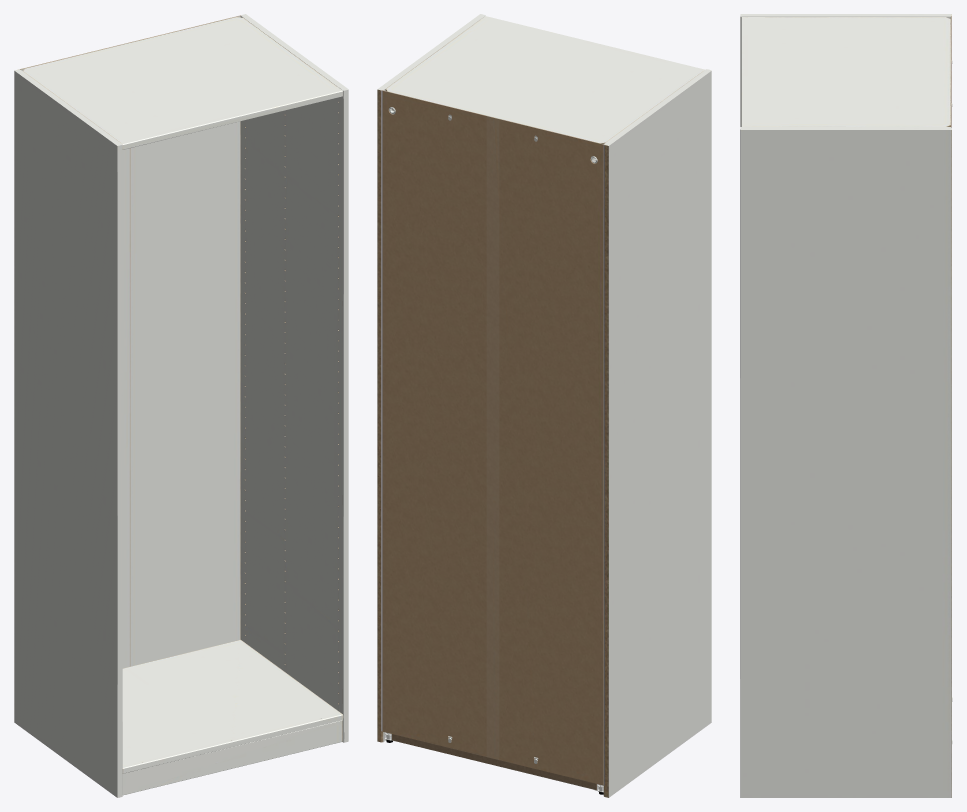
The picture shows the model from 3 angles, left to right: view 1: azimuth 30°, elevation 25°; view 2: azimuth 150°, elevation 25°; view 3: azimuth 270°, elevation 25°; orthographic projection. The views are drawn at different scales.
Parts seen in each view (by area): view 1: world; view 2: world; view 3: world.
Boxes of the visible parts, bbox=[...] form: world: bbox=[14, 14, 348, 797]; world: bbox=[377, 14, 711, 797]; world: bbox=[740, 14, 952, 797].
Bounding box in the file's own units: 0.748 × 2.01 × 0.58.
2 materials, 2 textured.
